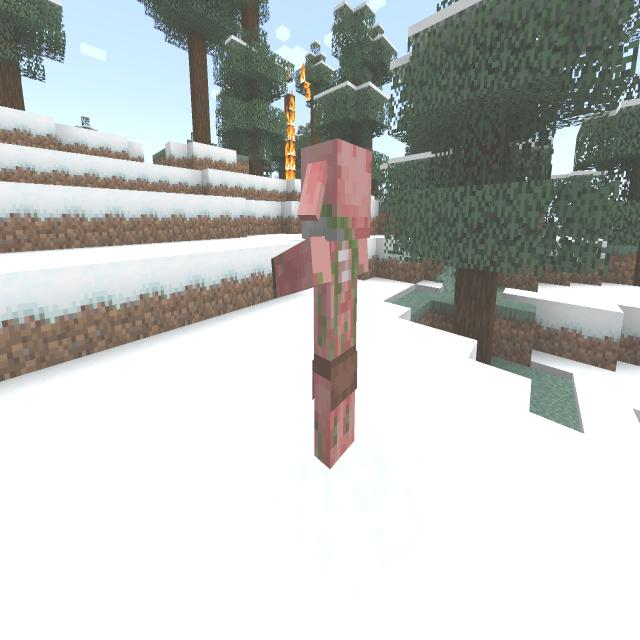Zombified Piglin: (257, 125, 379, 480)
